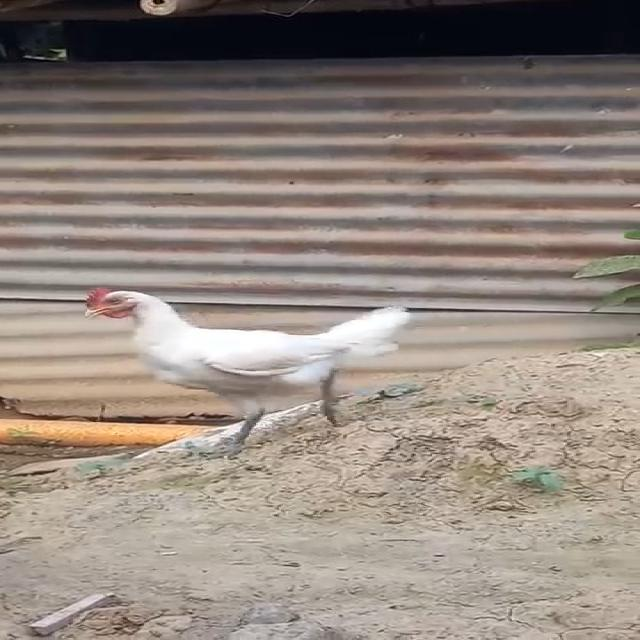walking: (60, 262, 434, 466)
